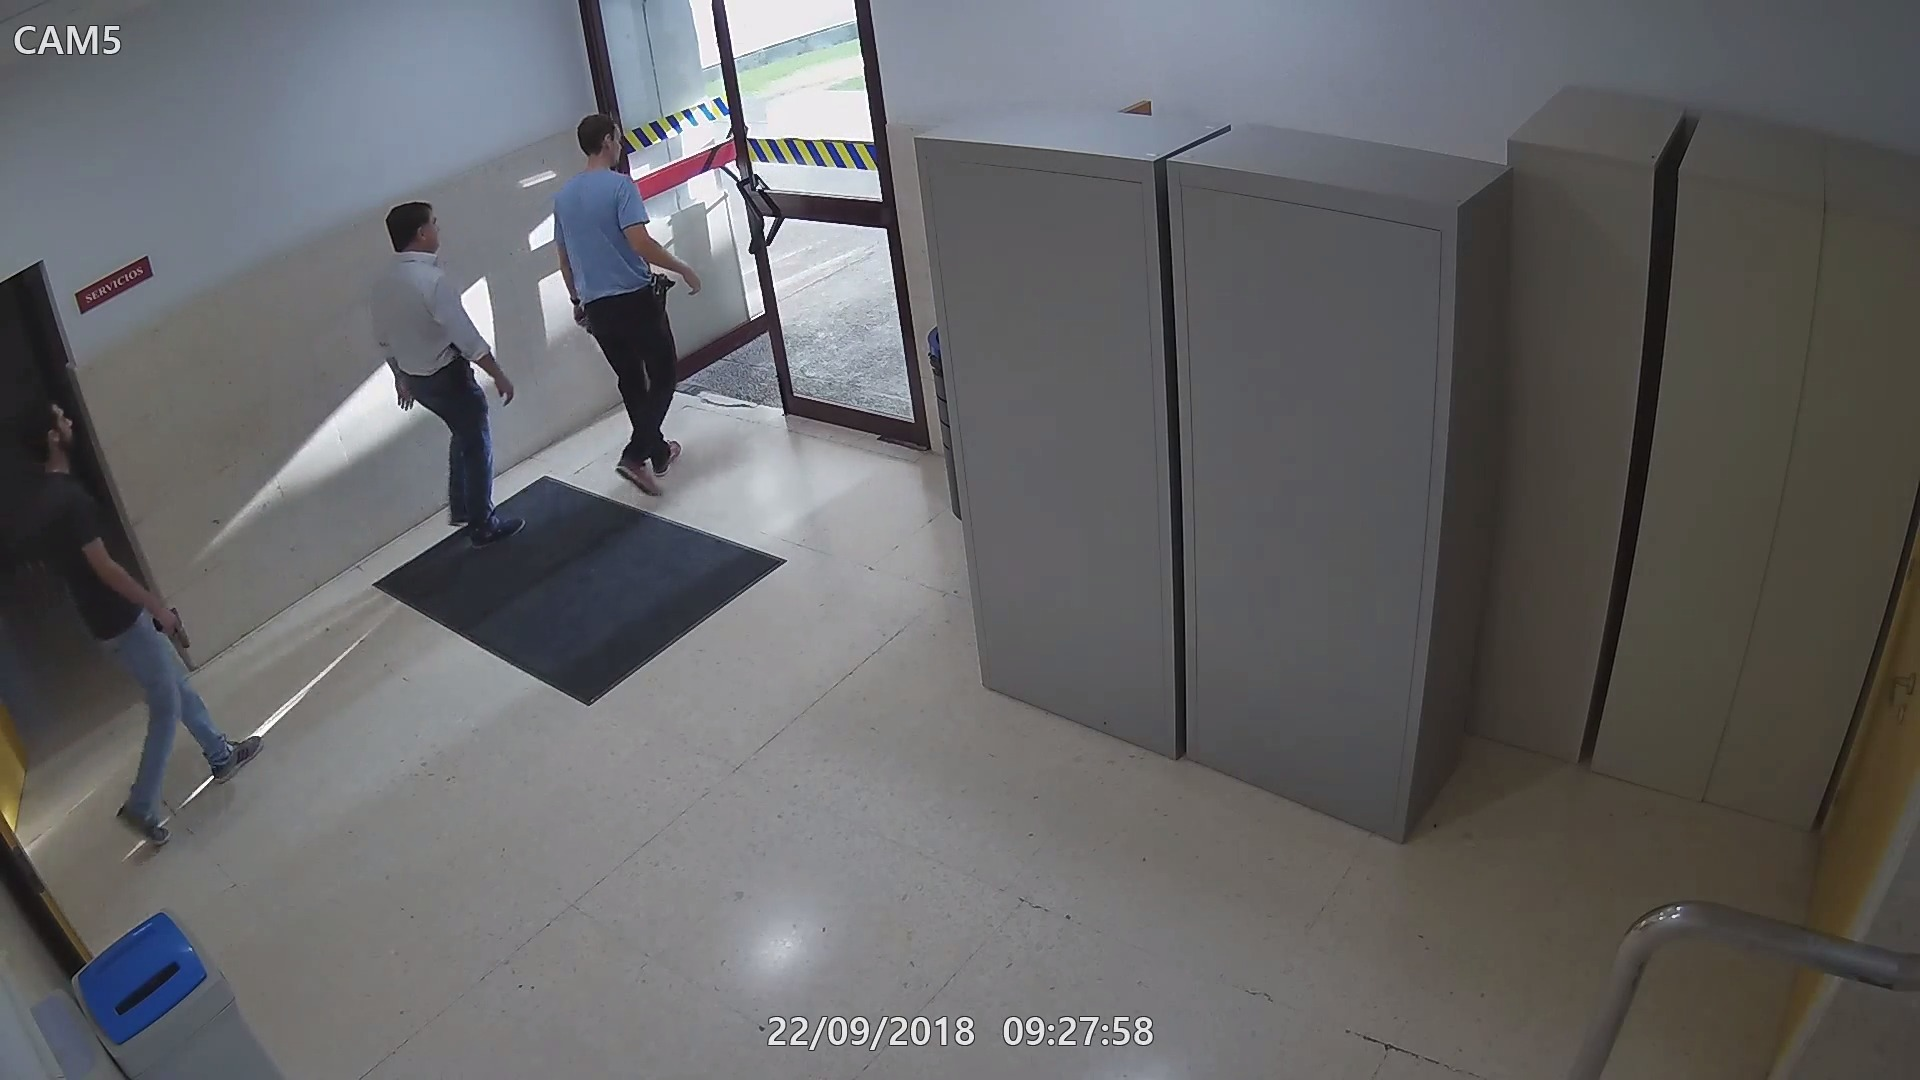Handgun: (148, 603, 195, 653), (644, 268, 674, 320), (448, 338, 473, 376)
Knife: (582, 305, 600, 344)
